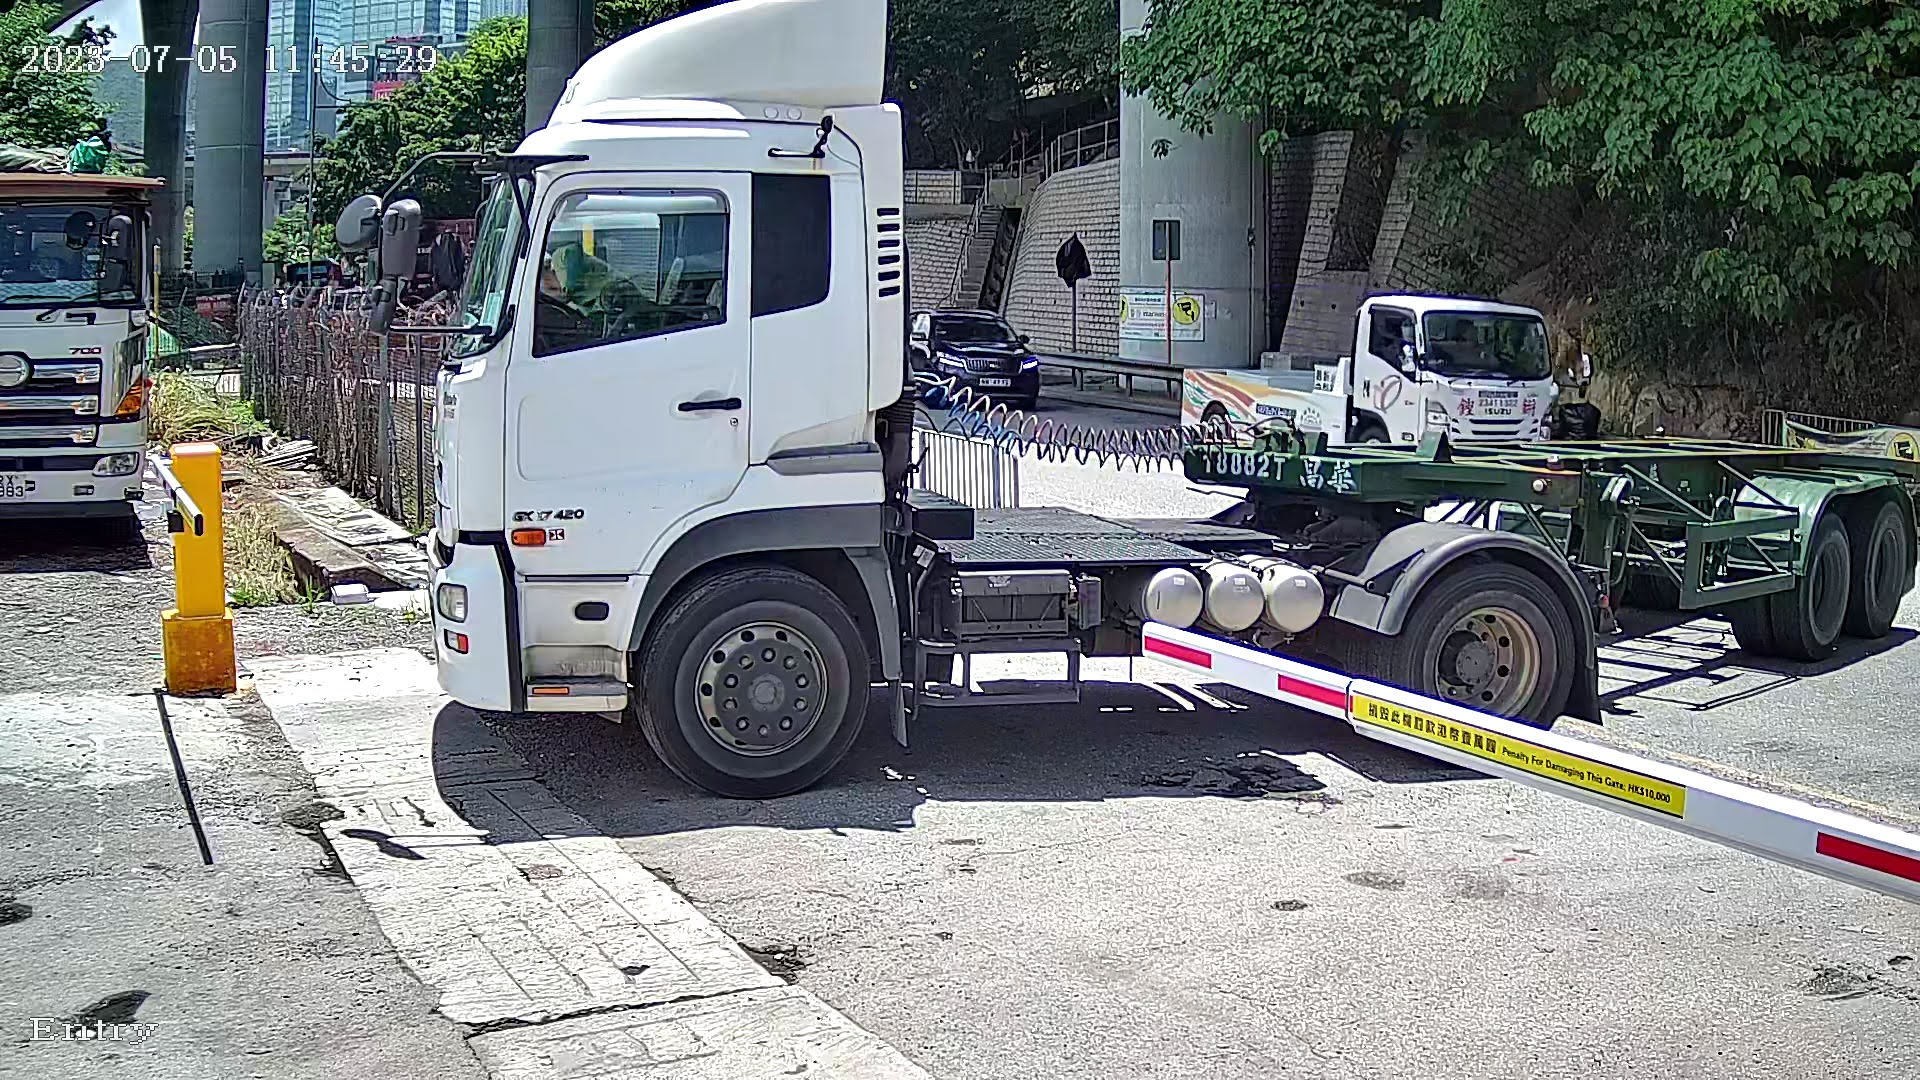tractor: (377, 1, 1899, 815)
